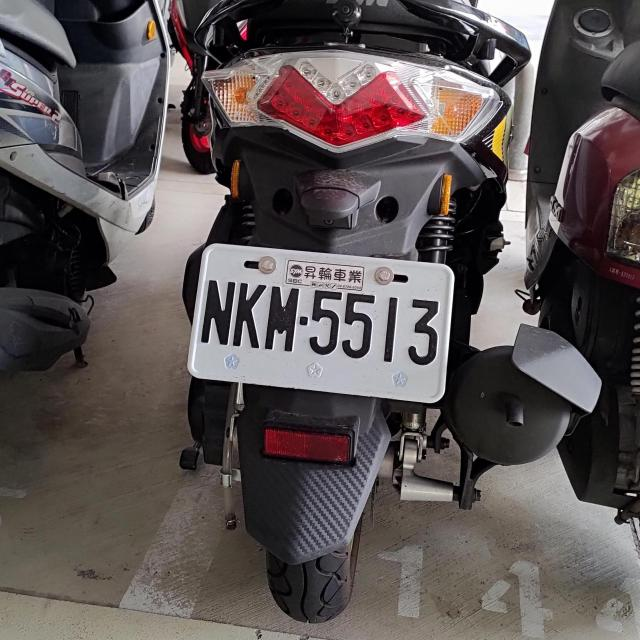W: (187, 246, 458, 398)
